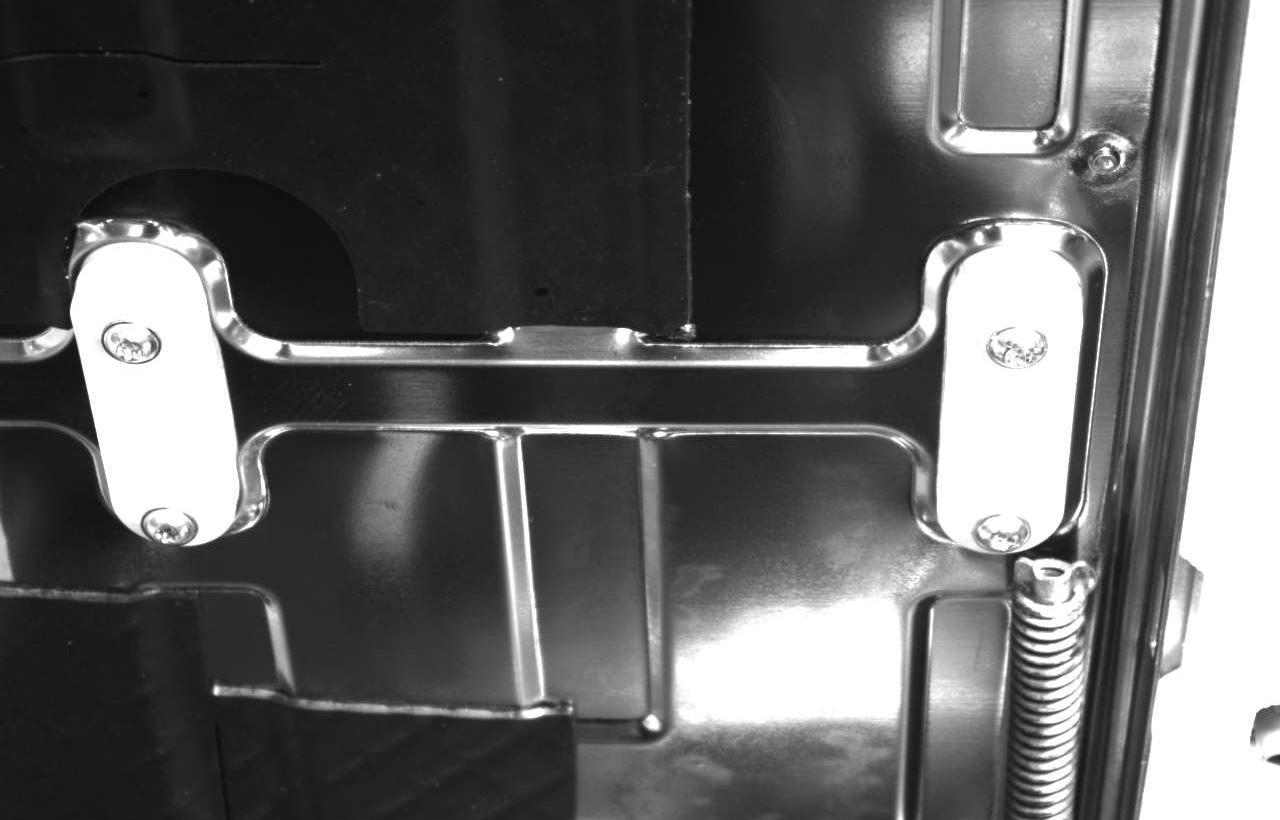vida-ok: (87, 301, 174, 378), (974, 312, 1062, 385), (127, 497, 207, 562), (958, 501, 1034, 560)
